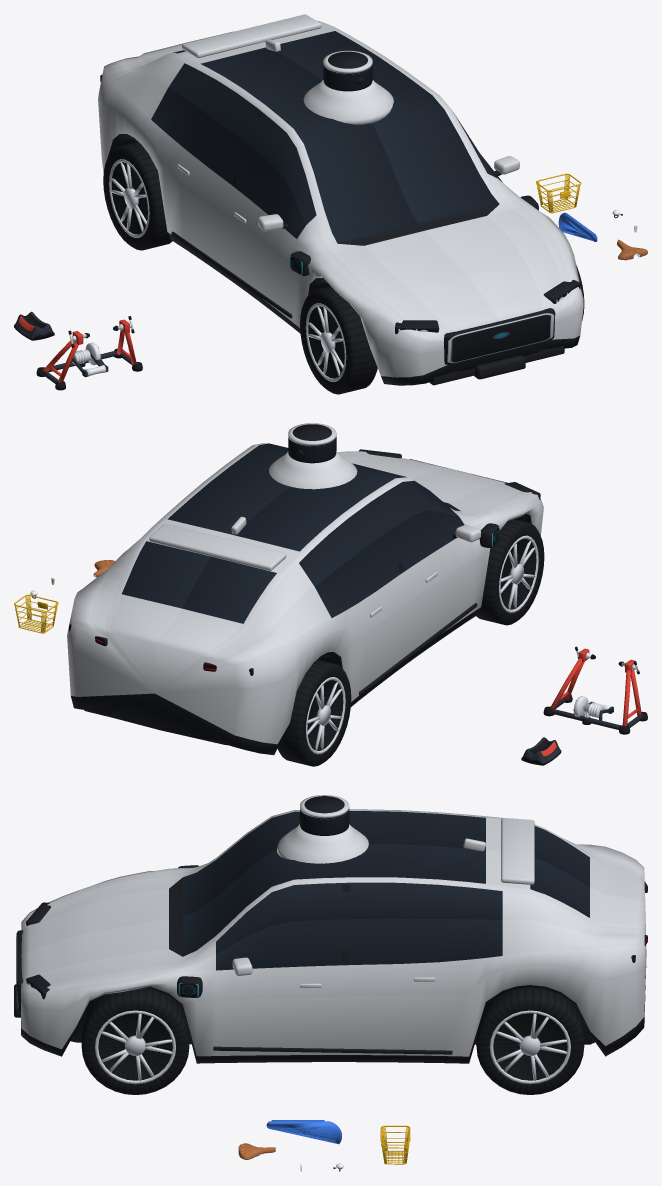
Rendered from gbike_and_vehicles_v2.glb.
3 views of the same model, one above another, from view 1: azimuth 30°, elevation 25°; view 2: azimuth 150°, elevation 25°; view 3: azimuth 270°, elevation 25° (orthographic). The views are drawn at different scales.
Visible parts, largest first — view 1: Waymo_Body_V2, Waymo_Wheel_FL_V2, Waymo_Wheel_RL_V2, Gym_Trainer_Stand_V2, Waymo_Lidar_Dome_V2, GBike_Basket_V2, Trainer_Front_Riser_Block_V8, GBike_ChainGuard_V2; view 2: Waymo_Body_V2, Waymo_Wheel_RL_V2, Waymo_Wheel_FL_V2, Gym_Trainer_Stand_V2, Waymo_Lidar_Dome_V2, GBike_Basket_V2, Trainer_Front_Riser_Block_V8; view 3: Waymo_Body_V2, Waymo_Wheel_FR_V2, Waymo_Wheel_RR_V2, Waymo_Lidar_Dome_V2, GBike_ChainGuard_V2, GBike_Basket_V2.
Part boxes in pixels (left/top/right/bottom): Waymo_Body_V2: left=98, top=14, right=583, bottom=385; Waymo_Wheel_FL_V2: left=300, top=286, right=377, bottom=394; Waymo_Wheel_RL_V2: left=103, top=141, right=172, bottom=250; Gym_Trainer_Stand_V2: left=36, top=316, right=142, bottom=390; Waymo_Lidar_Dome_V2: left=323, top=50, right=372, bottom=91; GBike_Basket_V2: left=536, top=173, right=581, bottom=213; Trainer_Front_Riser_Block_V8: left=14, top=311, right=54, bottom=340; GBike_ChainGuard_V2: left=558, top=212, right=597, bottom=241; Waymo_Body_V2: left=67, top=443, right=543, bottom=755; Waymo_Wheel_RL_V2: left=277, top=660, right=351, bottom=766; Waymo_Wheel_FL_V2: left=476, top=519, right=544, bottom=625; Gym_Trainer_Stand_V2: left=543, top=646, right=647, bottom=734; Waymo_Lidar_Dome_V2: left=288, top=423, right=336, bottom=463; GBike_Basket_V2: left=14, top=594, right=58, bottom=633; Trainer_Front_Riser_Block_V8: left=521, top=737, right=561, bottom=765; Waymo_Body_V2: left=14, top=809, right=647, bottom=1063; Waymo_Wheel_FR_V2: left=81, top=988, right=189, bottom=1094; Waymo_Wheel_RR_V2: left=476, top=988, right=584, bottom=1094; Waymo_Lidar_Dome_V2: left=299, top=795, right=350, bottom=835; GBike_ChainGuard_V2: left=266, top=1120, right=341, bottom=1144; GBike_Basket_V2: left=380, top=1125, right=410, bottom=1164.
Bounding box in the file's own units: 4.97 × 1.86 × 4.56.
Materials: 5 (5 with a texture image).
